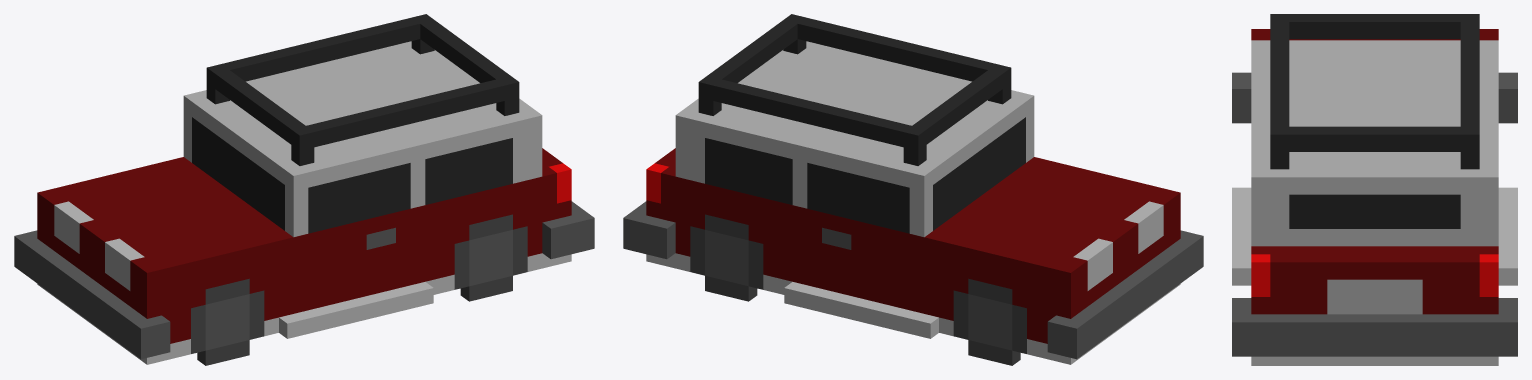
Rendered from voiture2red.obj.
The picture shows the model from 3 angles, left to right: view 1: azimuth 30°, elevation 25°; view 2: azimuth 150°, elevation 25°; view 3: azimuth 270°, elevation 25°; orthographic projection. The views are drawn at different scales.
Visible parts, largest first — view 1: voiture2red; view 2: voiture2red; view 3: voiture2red.
Part boxes in pixels (x1,y1,x2,y2): voiture2red: (14, 14, 594, 365); voiture2red: (623, 14, 1203, 365); voiture2red: (1232, 14, 1517, 365).
Size of the model in its own units: 31 by 13 by 15.
Materials: 1 (1 with a texture image).
